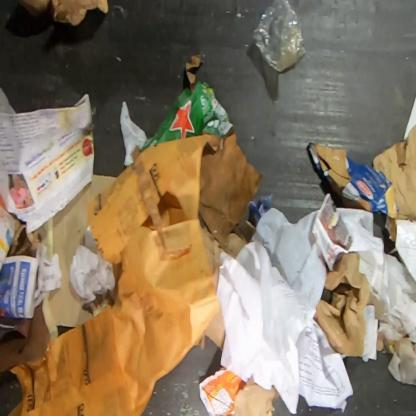cardboard: (141, 55, 263, 250), (42, 174, 118, 340), (307, 141, 399, 219), (372, 123, 415, 286), (198, 212, 256, 296), (0, 298, 51, 374), (16, 0, 109, 26), (200, 300, 225, 351)
rigid_plastic: (252, 0, 306, 72)
